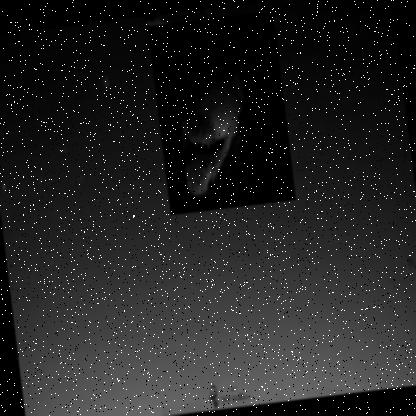white-shark: (146, 8, 296, 214)
